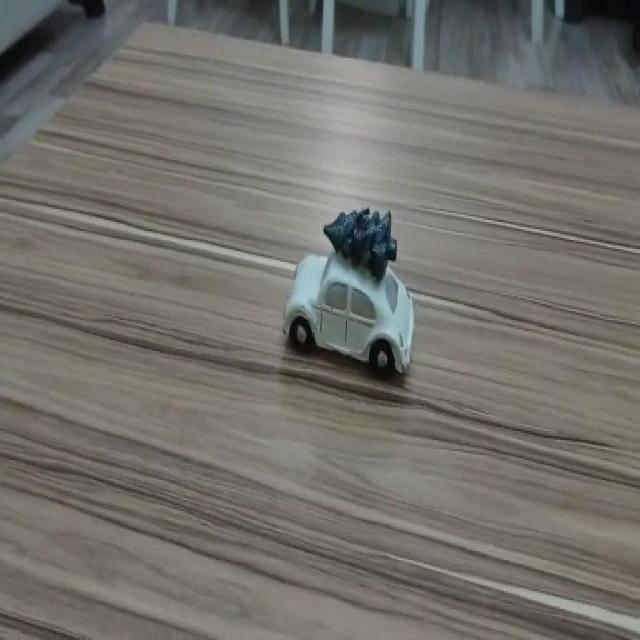car: (284, 250, 418, 370)
